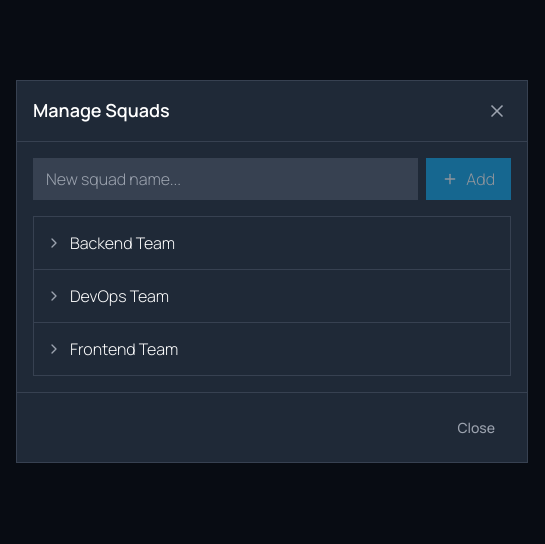
ManageSquadsModal › user list functionality › expands to show users when squad clicked
The width and height of the screenshot is (545, 544).
Click the text "Frontend Team".
click(124, 348)  # box 70,336 -> 178,360
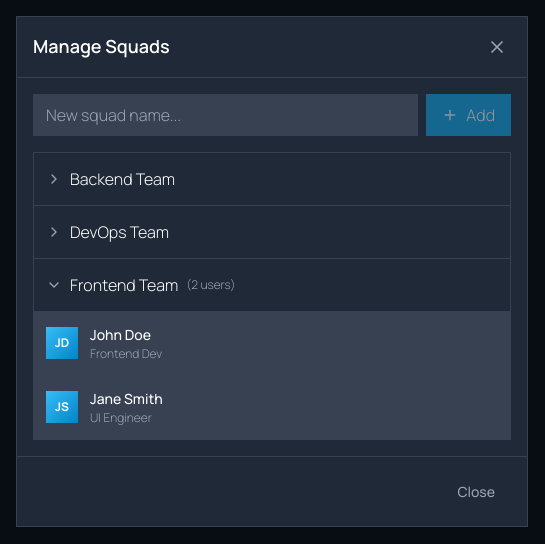
Check: the text "Frontend Dev" is shown, box 90,344 -> 162,362
Check: the text "UI Engineer" is shown, box 90,408 -> 152,426
